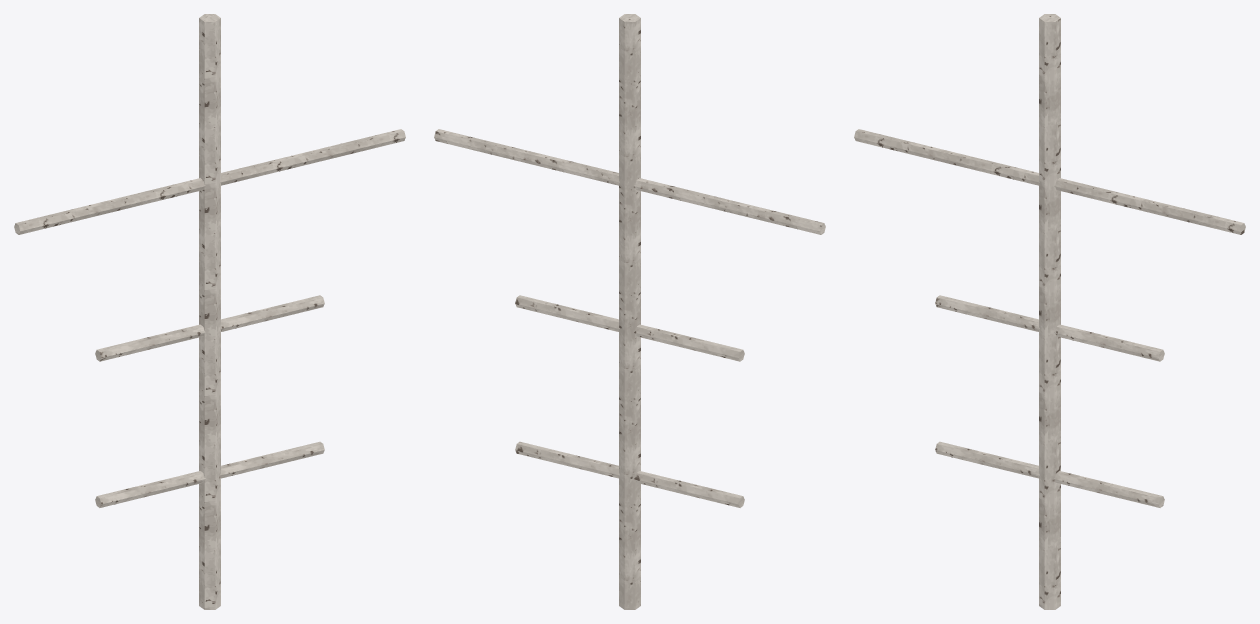
File: viga5.glb
3 renders of one model, left to right at view 1: azimuth 30°, elevation 25°; view 2: azimuth 150°, elevation 25°; view 3: azimuth 330°, elevation 25°, orthographic.
Visible parts, largest first — view 1: Antenna_1; view 2: Antenna_1; view 3: Antenna_1.
Boxes of the visible parts, left/top/right/bottom form: Antenna_1: left=14, top=14, right=405, bottom=609; Antenna_1: left=434, top=14, right=825, bottom=609; Antenna_1: left=854, top=14, right=1245, bottom=609.
Size of the model in its own units: 4.73 by 6.89 by 0.2307.
Materials: 1 (1 with a texture image).
